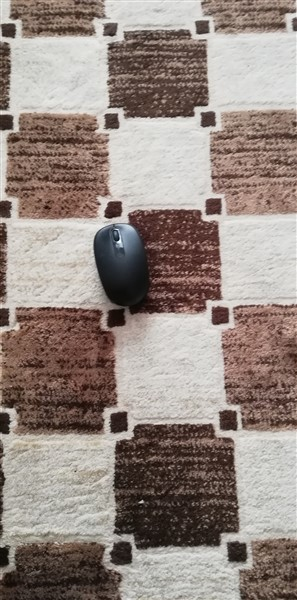mouse: (88, 220, 162, 311)
